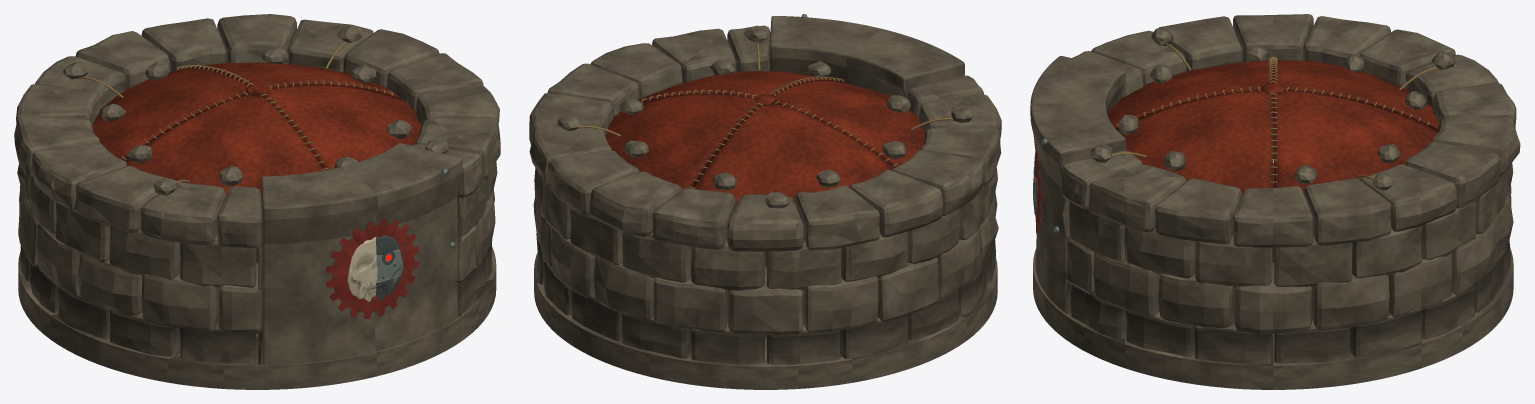
Rendered from martian-stone-cache-v01.glb.
3 views of the same model, side by side, from view 1: azimuth 30°, elevation 25°; view 2: azimuth 150°, elevation 25°; view 3: azimuth 270°, elevation 25° (orthographic). The views are drawn at different scales.
Parts seen in each view (by area): view 1: Grounded carved circuit receiving tablet, Continuous grounded rubble footing, Red stitched hide panel 2, Red stitched hide panel 3, Red stitched hide panel 1, Hand-laid course 3 stone 10.0, Hand-laid course 3 stone 09.0, Cache centered emblem | Mars emblem | twenty tooth cog surro, Hand-laid course 1 stone 10.0, Hand-laid course 3 stone 08.0, Hand-laid course 2 stone 11.0, Hand-laid course 3 stone 02.0 (+30 smaller); view 2: Continuous grounded rubble footing, Red stitched hide panel 1, Grounded carved circuit receiving tablet, Red stitched hide panel 0, Red stitched hide panel 2, Hand-laid course 3 stone 06.0, Hand-laid course 3 stone 04.0, Hand-laid course 3 stone 07.0, Hand-laid course 3 stone 03.0, Hand-laid course 3 stone 05.0, Hand-laid course 1 stone 06.0, Hand-laid course 1 stone 05.0 (+35 smaller); view 3: Continuous grounded rubble footing, Grounded carved circuit receiving tablet, Red stitched hide panel 0, Red stitched hide panel 3, Hand-laid course 3 stone 00.0, Red stitched hide panel 2, Hand-laid course 3 stone 17.0, Hand-laid course 3 stone 16.0, Red stitched hide panel 1, Hand-laid course 3 stone 15.0, Hand-laid course 1 stone 17.0, Hand-laid course 3 stone 01.0 (+32 smaller).
Boxes of the visible parts, x1=… form: Grounded carved circuit receiving tablet: x1=261, y1=143, x2=462, y2=364; Continuous grounded rubble footing: x1=18, y1=247, x2=496, y2=389; Red stitched hide panel 2: x1=124, y1=94, x2=324, y2=199; Red stitched hide panel 3: x1=263, y1=84, x2=421, y2=170; Red stitched hide panel 1: x1=92, y1=68, x2=249, y2=160; Hand-laid course 3 stone 10.0: x1=141, y1=182, x2=226, y2=245; Hand-laid course 3 stone 09.0: x1=75, y1=166, x2=167, y2=232; Cache centered emblem | Mars emblem | twenty tooth cog surro: x1=325, y1=219, x2=419, y2=318; Hand-laid course 1 stone 10.0: x1=141, y1=274, x2=218, y2=331; Hand-laid course 3 stone 08.0: x1=31, y1=143, x2=126, y2=210; Hand-laid course 2 stone 11.0: x1=180, y1=234, x2=256, y2=287; Hand-laid course 3 stone 02.0: x1=217, y1=14, x2=296, y2=64; Continuous grounded rubble footing: x1=534, y1=253, x2=997, y2=389; Red stitched hide panel 1: x1=692, y1=103, x2=895, y2=205; Grounded carved circuit receiving tablet: x1=769, y1=16, x2=964, y2=98; Red stitched hide panel 0: x1=605, y1=93, x2=759, y2=189; Red stitched hide panel 2: x1=775, y1=80, x2=924, y2=166; Hand-laid course 3 stone 06.0: x1=795, y1=185, x2=879, y2=250; Hand-laid course 3 stone 04.0: x1=652, y1=188, x2=735, y2=249; Hand-laid course 3 stone 07.0: x1=849, y1=170, x2=943, y2=237; Hand-laid course 3 stone 03.0: x1=589, y1=171, x2=681, y2=236; Hand-laid course 3 stone 05.0: x1=727, y1=194, x2=804, y2=251; Hand-laid course 1 stone 06.0: x1=802, y1=276, x2=878, y2=332; Hand-laid course 1 stone 05.0: x1=728, y1=266, x2=803, y2=335; Continuous grounded rubble footing: x1=1033, y1=163, x2=1513, y2=389; Grounded carved circuit receiving tablet: x1=1030, y1=56, x2=1125, y2=311; Red stitched hide panel 0: x1=1273, y1=90, x2=1438, y2=193; Red stitched hide panel 3: x1=1115, y1=90, x2=1273, y2=196; Hand-laid course 3 stone 00.0: x1=1304, y1=178, x2=1391, y2=245; Red stitched hide panel 2: x1=1107, y1=60, x2=1273, y2=128; Hand-laid course 3 stone 17.0: x1=1233, y1=186, x2=1313, y2=247; Hand-laid course 3 stone 16.0: x1=1155, y1=178, x2=1241, y2=244; Red stitched hide panel 1: x1=1273, y1=60, x2=1438, y2=129; Hand-laid course 3 stone 15.0: x1=1088, y1=164, x2=1186, y2=232; Hand-laid course 1 stone 17.0: x1=1234, y1=262, x2=1311, y2=333; Hand-laid course 3 stone 01.0: x1=1360, y1=164, x2=1457, y2=231.
Bounding box in the file's own units: 1.96 × 0.892 × 1.95.
Materials: 13 (12 with a texture image).
